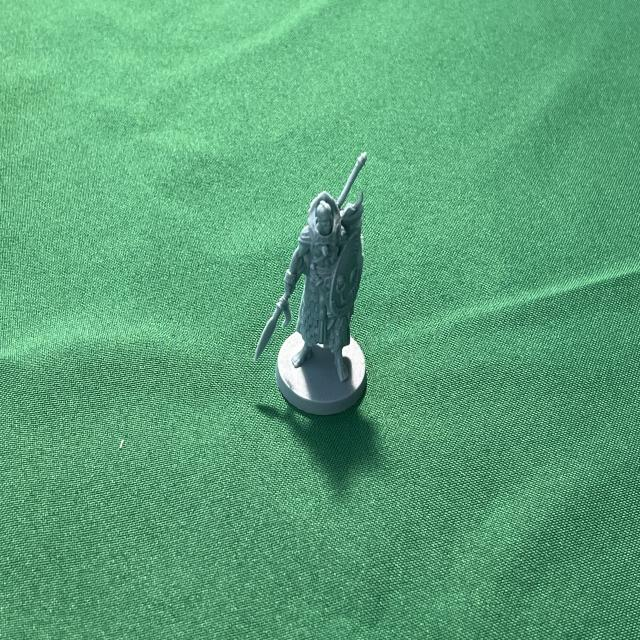isis_follower: (247, 147, 376, 421)
